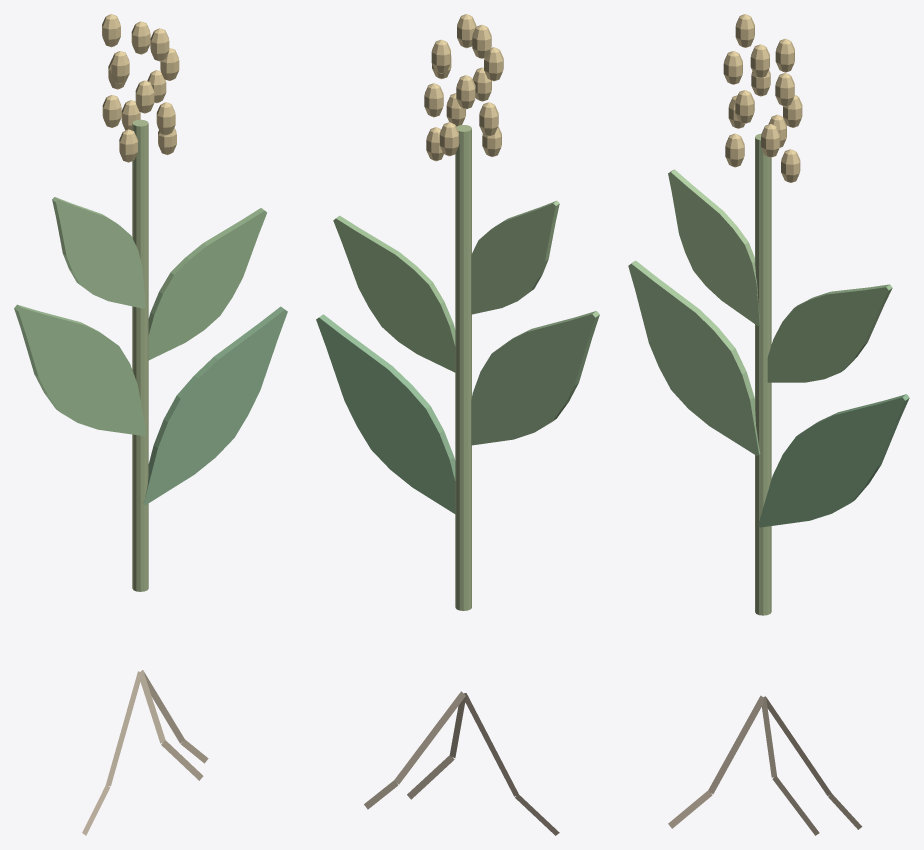
File: rythu-cereal-crop.gltf
3 views of the same model, side by side, from view 1: azimuth 30°, elevation 25°; view 2: azimuth 150°, elevation 25°; view 3: azimuth 330°, elevation 25° (orthographic). The views are drawn at different scales.
Visible parts, largest first — view 1: Leaf lower left, Leaf lower right, Leaf middle left, Cereal stem, Leaf upper right, Grain head, Root structure; view 2: Leaf lower left, Leaf lower right, Leaf middle left, Cereal stem, Leaf upper right, Grain head, Root structure; view 3: Leaf lower right, Leaf lower left, Leaf middle left, Cereal stem, Leaf upper right, Grain head, Root structure.
Part boxes in pixels (x1,y1,x2,y2): Leaf lower left: (143,306,287,505); Leaf lower right: (14,304,146,436); Leaf middle left: (148,208,266,360); Cereal stem: (132,119,148,591); Leaf upper right: (52,197,145,308); Grain head: (102,14,179,162); Root structure: (82,670,208,835); Leaf lower left: (316,314,455,513); Leaf lower right: (471,311,599,445); Leaf middle left: (333,215,455,372); Cereal stem: (455,125,471,610); Leaf upper right: (471,200,559,314); Grain head: (424,14,503,161); Root structure: (364,691,559,835); Leaf lower right: (628,260,760,455); Leaf lower left: (758,394,909,527); Leaf middle left: (767,284,892,382); Cereal stem: (755,133,771,615); Leaf upper right: (668,169,759,325); Grain head: (723,14,802,182); Root structure: (668,695,862,835).
Size of the model in its own units: 1.61 by 4.52 by 0.3471.
